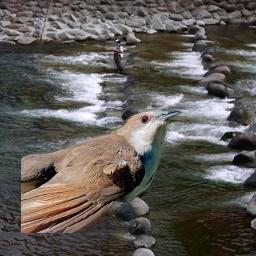Cuckoo: (21, 109, 182, 233)
